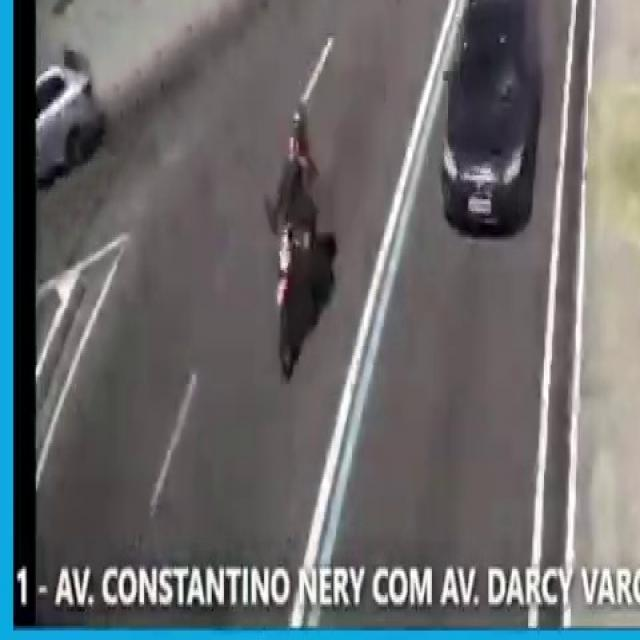biker: (268, 86, 334, 385)
car: (434, 0, 546, 232)
